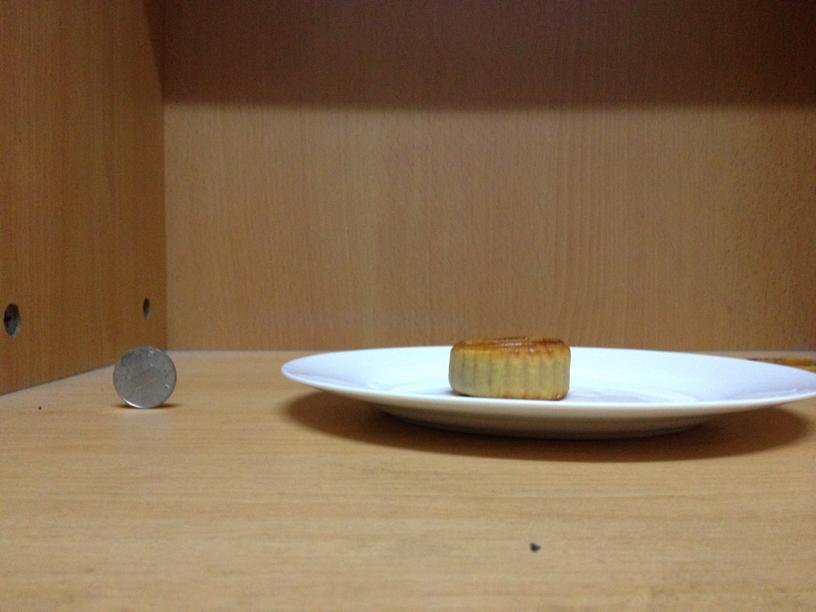coin: (113, 346, 176, 408)
mooncake: (449, 333, 571, 398)
